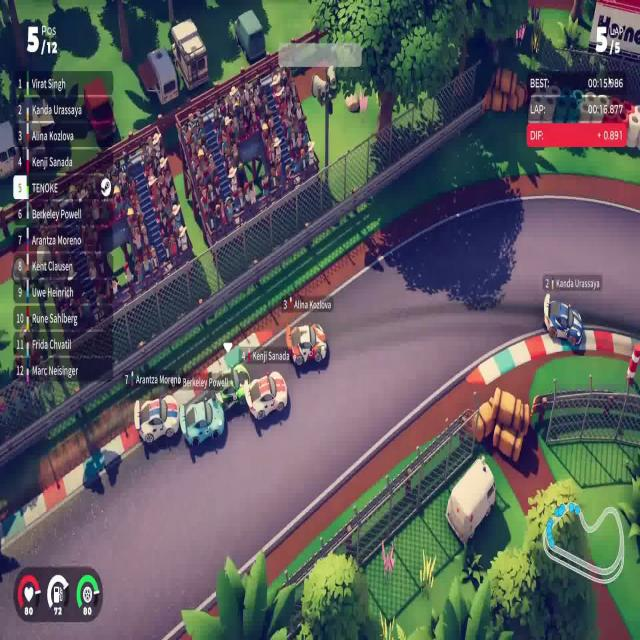car: (178, 388, 226, 448), (134, 392, 180, 447), (542, 291, 584, 348), (244, 369, 288, 422), (285, 320, 328, 369), (209, 366, 248, 407)
